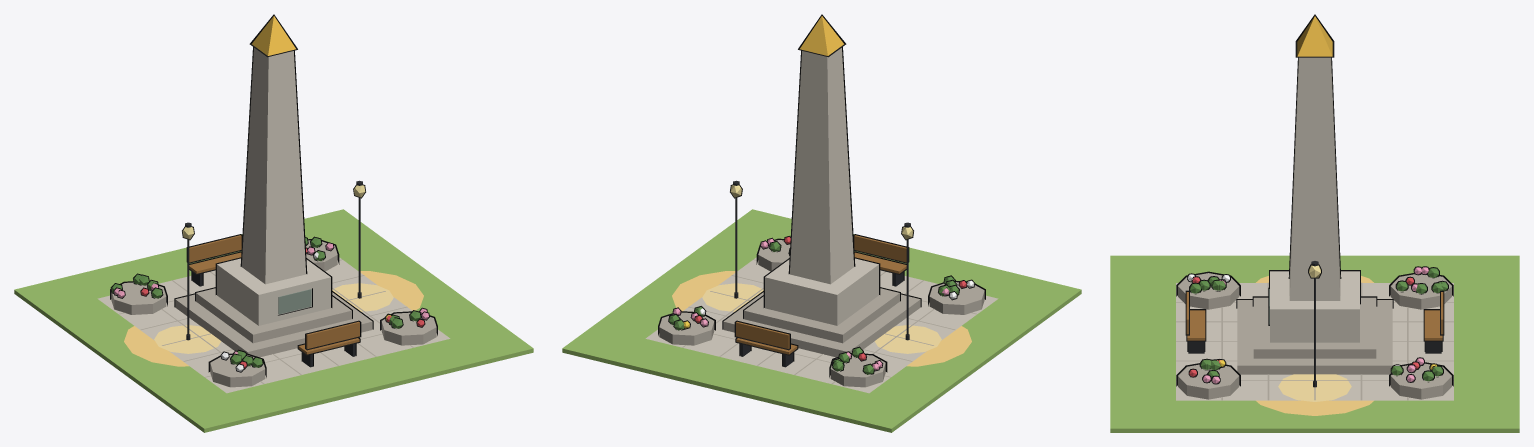
The model's file is Park_anit.fbx.
3 views of the same model, side by side, from view 1: azimuth 30°, elevation 25°; view 2: azimuth 150°, elevation 25°; view 3: azimuth 270°, elevation 25° (orthographic). The views are drawn at different scales.
Visible parts, largest first — view 1: Park_anit; view 2: Park_anit; view 3: Park_anit.
Boxes of the visible parts, <box> form: Park_anit: <box>14,14,533,432</box>; Park_anit: <box>562,14,1081,432</box>; Park_anit: <box>1110,14,1519,432</box>.
Bounding box in the file's own units: 10 × 8.97 × 10.
